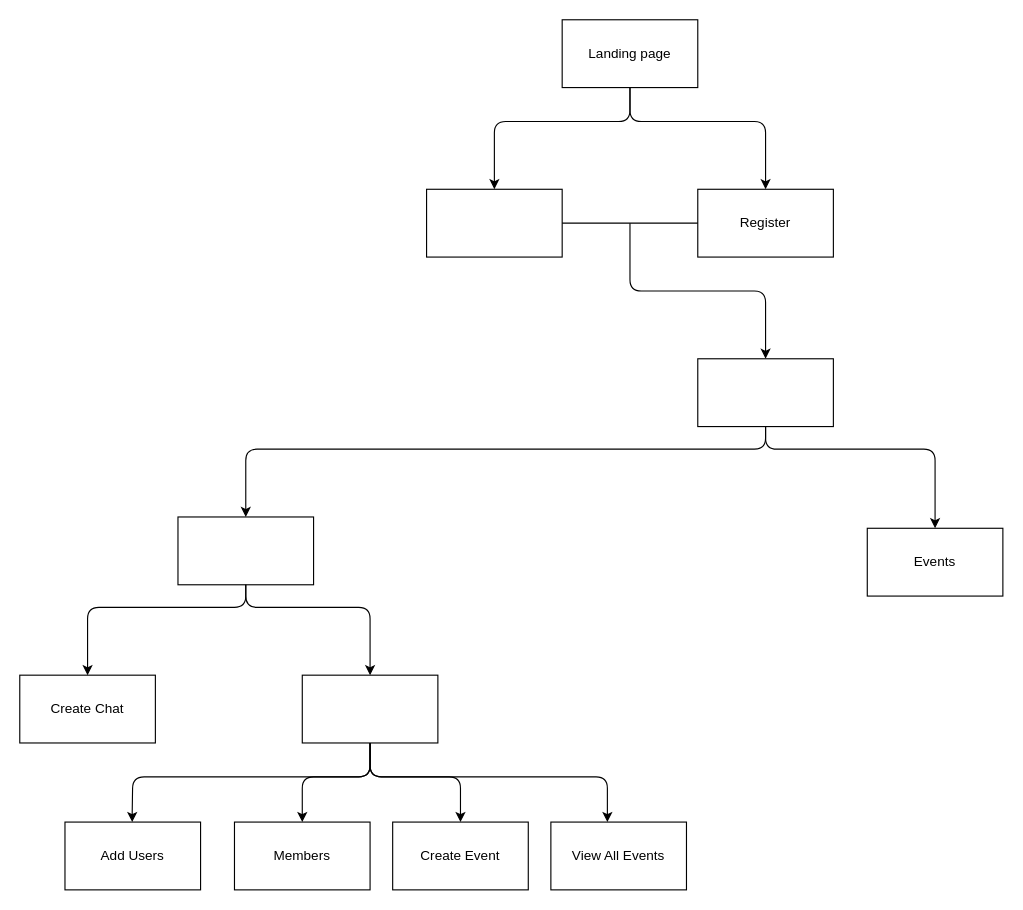
This 1023x910 diagram has some shape labels left out. Each missing label, with the box of its shape:
Chats: (177, 516, 314, 585)
Group Chat: (301, 674, 438, 743)
Home: (697, 358, 833, 427)
Login: (425, 188, 562, 257)
